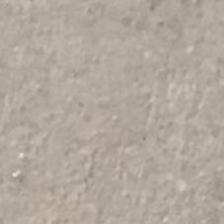Non_Crack: (27, 40, 192, 224)
